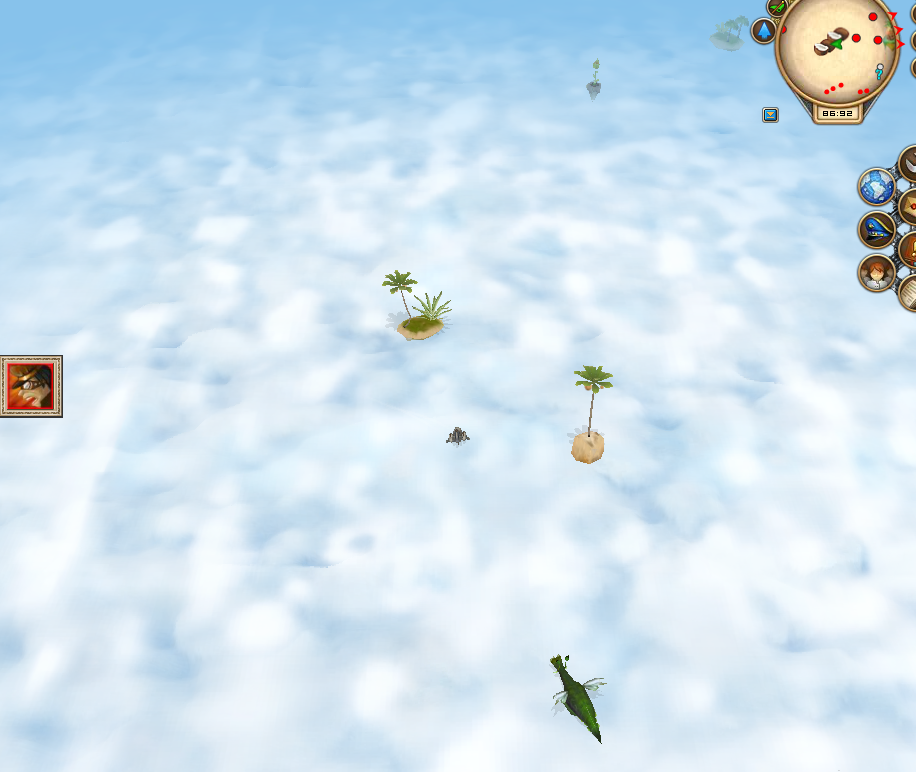palm: (560, 359, 618, 470), (378, 263, 452, 348)
